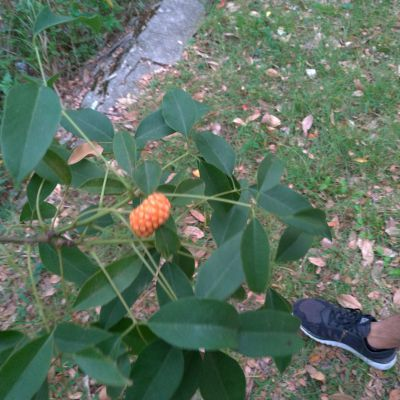eggs: (125, 189, 174, 241)
